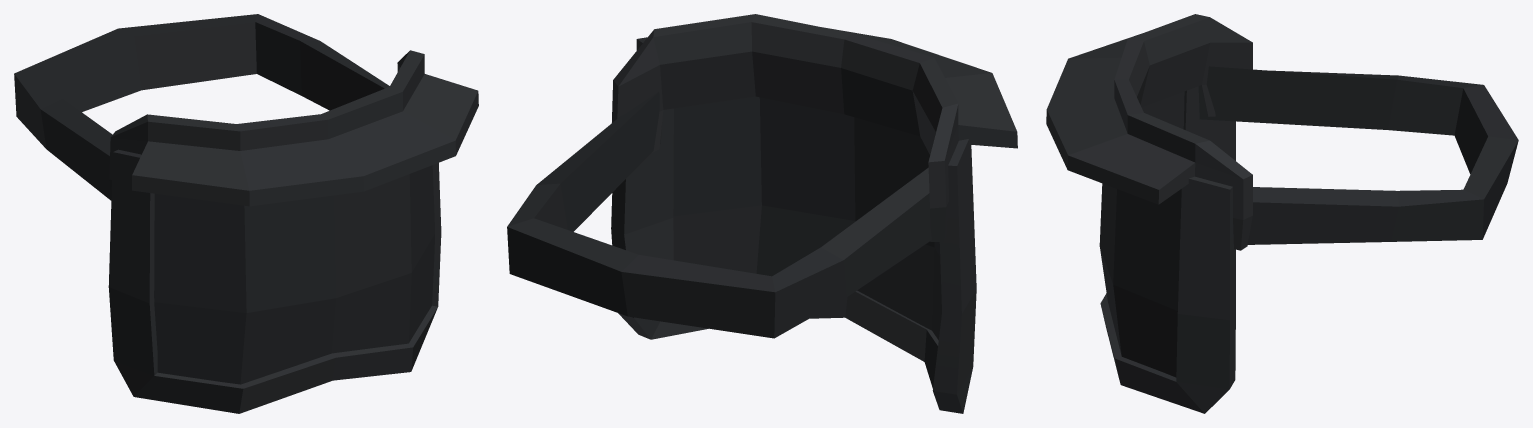
The model's file is SM_Chr_Attach_FaceShield_Mesh_01.glb.
The picture shows the model from 3 angles, left to right: view 1: azimuth 30°, elevation 25°; view 2: azimuth 150°, elevation 25°; view 3: azimuth 270°, elevation 25°; orthographic projection. The views are drawn at different scales.
Visible parts, largest first — view 1: SM_Chr_Attach_FaceShield_Mesh_01, SM_Chr_Attach_FaceShield_Mesh_Screen_01; view 2: SM_Chr_Attach_FaceShield_Mesh_01, SM_Chr_Attach_FaceShield_Mesh_Screen_01; view 3: SM_Chr_Attach_FaceShield_Mesh_01, SM_Chr_Attach_FaceShield_Mesh_Screen_01.
Boxes of the visible parts, x1,y1,x2,y2 form: SM_Chr_Attach_FaceShield_Mesh_01: (14,14,478,413); SM_Chr_Attach_FaceShield_Mesh_Screen_01: (154,165,434,384); SM_Chr_Attach_FaceShield_Mesh_01: (507,14,1017,413); SM_Chr_Attach_FaceShield_Mesh_Screen_01: (673,96,941,339); SM_Chr_Attach_FaceShield_Mesh_01: (1046,14,1518,413); SM_Chr_Attach_FaceShield_Mesh_Screen_01: (1099,91,1184,377).
Bounding box in the file's own units: 0.3351 × 0.2573 × 0.4114.
Materials: 2 (2 with a texture image).
